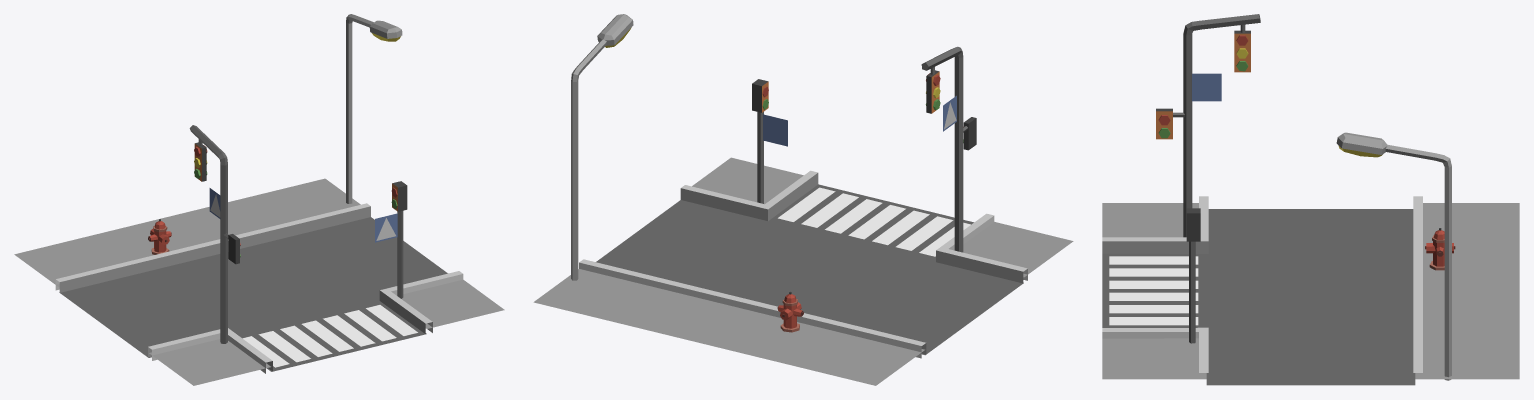
The model's file is street-three-transformed.glb.
3 views of the same model, side by side, from view 1: azimuth 30°, elevation 25°; view 2: azimuth 150°, elevation 25°; view 3: azimuth 270°, elevation 25° (orthographic). The views are drawn at different scales.
Parts seen in each view (by area): view 1: road_tile_1x1_10; view 2: road_tile_1x1_10; view 3: road_tile_1x1_10.
Part boxes in pixels (left/top/right/bottom): road_tile_1x1_10: left=14, top=14, right=504, bottom=385; road_tile_1x1_10: left=533, top=14, right=1073, bottom=385; road_tile_1x1_10: left=1102, top=14, right=1519, bottom=385.
Bounding box in the file's own units: 8.02 × 5.25 × 8.
Materials: 1 (1 with a texture image).
